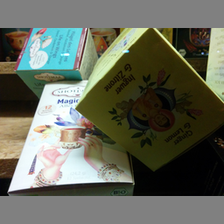tea: (74, 29, 224, 170), (4, 80, 141, 195)
